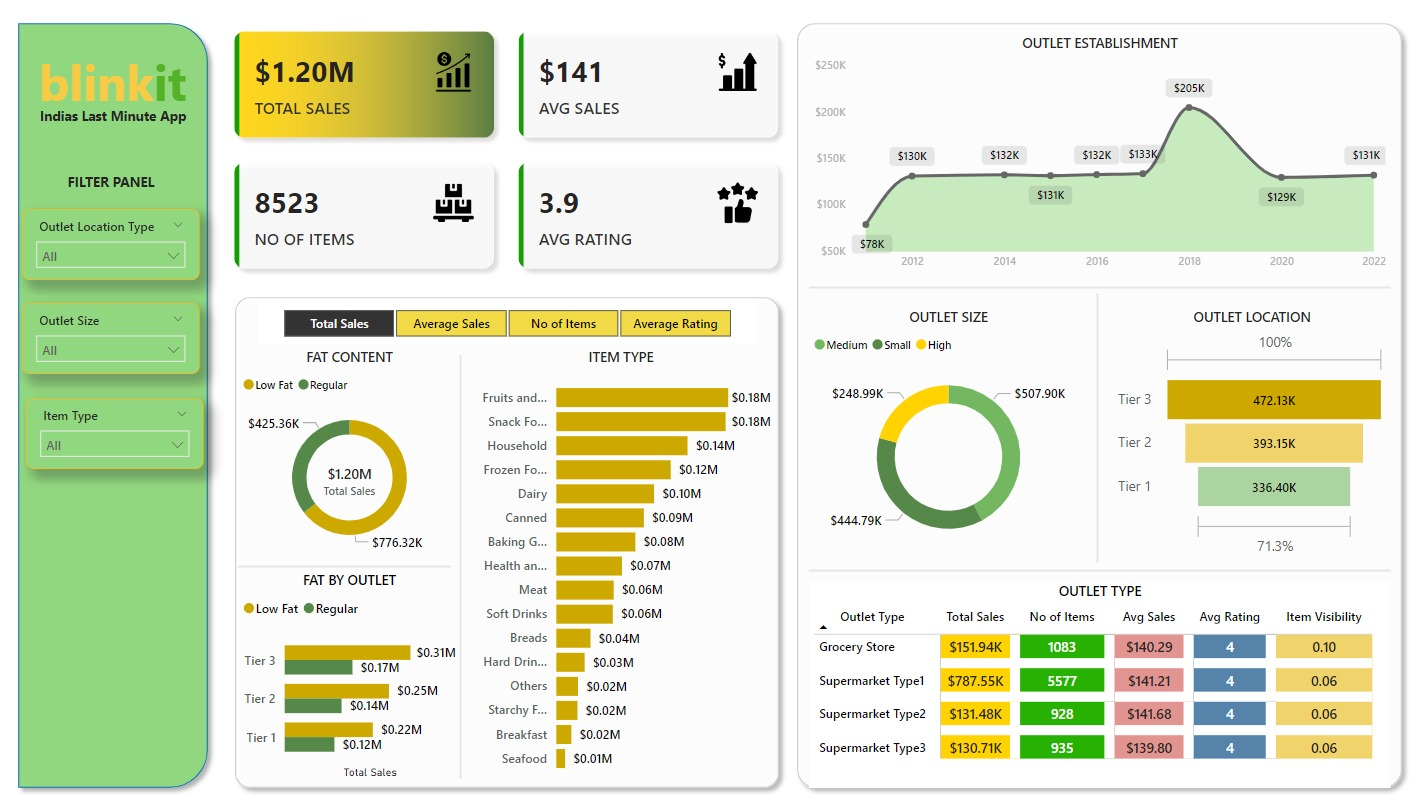

This screenshot's page, from the dashboard's own definition file:
{"tool":"powerbi","page":{"name":"Page 1","canvas":[1400,800],"ordinal":0},"visuals":[{"type":"shape","box":[9.9,28.6,204.9,771.4],"z":0},{"type":"textbox","box":[27,57,171,82],"z":1000},{"type":"textbox","box":[26.6,115.3,171.4,27.6],"z":2000},{"type":"cardVisual","fields":{"Data":["BlinkIT Grocery Data.Total Sales","BlinkIT Grocery Data.Average Sales","BlinkIT Grocery Data.No of Items","BlinkIT Grocery Data.Average Rating"]},"box":[214.8,28.6,570.4,270],"z":3000},{"type":"shape","box":[223.6,298.5,553.7,501.5],"z":4000},{"type":"donutChart","title":"FAT CONTENT","fields":{"Y":["BlinkIT Grocery Data.Total Sales"],"Category":["BlinkIT Grocery Data.Item Fat Content"]},"box":[235.5,357.6,219.7,210.8],"z":5000},{"type":"slicer","fields":{"Values":["Metrics.Metrics"]},"box":[255.2,313.3,489.7,40.4],"z":6000},{"type":"cardVisual","fields":{"Data":["BlinkIT Grocery Data.Total Sales"]},"box":[290.6,456.2,109.4,55.2],"z":7000},{"type":"clusteredBarChart","title":"FAT BY OUTLET","fields":{"Y":["BlinkIT Grocery Data.Total Sales"],"Category":["BlinkIT Grocery Data.Outlet Location Type"],"Series":["BlinkIT Grocery Data.Item Fat Content"]},"box":[235.5,577.3,219.7,208.9],"z":8000},{"type":"shape","box":[235.5,564.5,209.9,16.7],"z":9000},{"type":"shape","box":[448.3,364.5,12.8,417.7],"z":10000},{"type":"barChart","title":"ITEM TYPE","fields":{"Y":["BlinkIT Grocery Data.Total Sales"],"Category":["BlinkIT Grocery Data.Item Type"]},"box":[460.1,357.6,305.4,428.6],"z":11000},{"type":"shape","box":[777.3,28.6,613.8,771.4],"z":12000},{"type":"lineChart","title":"OUTLET ESTABLISHMENT","fields":{"Category":["BlinkIT Grocery Data.Outlet Establishment Year"],"Y":["BlinkIT Grocery Data.Total Sales"]},"box":[798,48.3,573.4,242.4],"z":13000},{"type":"shape","box":[798,293.6,573.4,8.9],"z":14000},{"type":"donutChart","title":"OUTLET SIZE","fields":{"Y":["BlinkIT Grocery Data.Total Sales"],"Category":["BlinkIT Grocery Data.Outlet Size"]},"box":[798,318.2,274.9,249.3],"z":15000},{"type":"shape","box":[1072.9,303.4,18.7,266],"z":16000},{"type":"funnel","title":"OUTLET LOCATION","fields":{"Y":["Sum(BlinkIT Grocery Data.Sales)"],"Category":["BlinkIT Grocery Data.Outlet Location Type"]},"box":[1097.5,318.2,273.9,249.3],"z":17000},{"type":"shape","box":[798,570.4,573.4,12.8],"z":18000},{"type":"pivotTable","title":"OUTLET TYPE","fields":{"Rows":["BlinkIT Grocery Data.Outlet Type"],"Values":["BlinkIT Grocery Data.Total Sales","BlinkIT Grocery Data.No of Items","BlinkIT Grocery Data.Average Sales","BlinkIT Grocery Data.Average Rating","Avg(BlinkIT Grocery Data.Item Visibility)"]},"box":[798,588.2,573.4,203],"z":19000},{"type":"slicer","fields":{"Values":["BlinkIT Grocery Data.Outlet Location Type"]},"box":[22.7,220.7,175.4,70],"z":20000},{"type":"slicer","fields":{"Values":["BlinkIT Grocery Data.Outlet Size"]},"box":[22.7,313.3,175.4,70],"z":21000},{"type":"slicer","fields":{"Values":["BlinkIT Grocery Data.Item Type"]},"box":[26.6,406.9,175.4,70],"z":22000},{"type":"textbox","box":[56.2,180.3,108.4,26.6],"z":23000}]}

Visuals, with their boxes in screenshot pixels (x1, y1, x2, y2), scaled from the page's 1400x800 canvas onto the 1420x795 screenshot:
shape: <box>10,28,218,794</box>
textbox: <box>27,57,201,138</box>
textbox: <box>27,115,201,142</box>
cardVisual - BlinkIT Grocery Data.Total Sales x BlinkIT Grocery Data.Average Sales: <box>218,28,796,297</box>
shape: <box>227,297,788,794</box>
"FAT CONTENT" donutChart: <box>239,355,462,565</box>
slicer - Metrics.Metrics: <box>259,311,756,351</box>
cardVisual - BlinkIT Grocery Data.Total Sales: <box>295,453,406,508</box>
"FAT BY OUTLET" clusteredBarChart: <box>239,574,462,781</box>
shape: <box>239,561,452,578</box>
shape: <box>455,362,468,777</box>
"ITEM TYPE" barChart: <box>467,355,776,781</box>
shape: <box>788,28,1411,794</box>
"OUTLET ESTABLISHMENT" lineChart: <box>809,48,1391,289</box>
shape: <box>809,292,1391,301</box>
"OUTLET SIZE" donutChart: <box>809,316,1088,564</box>
shape: <box>1088,302,1107,566</box>
"OUTLET LOCATION" funnel: <box>1113,316,1391,564</box>
shape: <box>809,567,1391,580</box>
"OUTLET TYPE" pivotTable: <box>809,585,1391,786</box>
slicer - BlinkIT Grocery Data.Outlet Location Type: <box>23,219,201,289</box>
slicer - BlinkIT Grocery Data.Outlet Size: <box>23,311,201,381</box>
slicer - BlinkIT Grocery Data.Item Type: <box>27,404,205,474</box>
textbox: <box>57,179,167,206</box>
